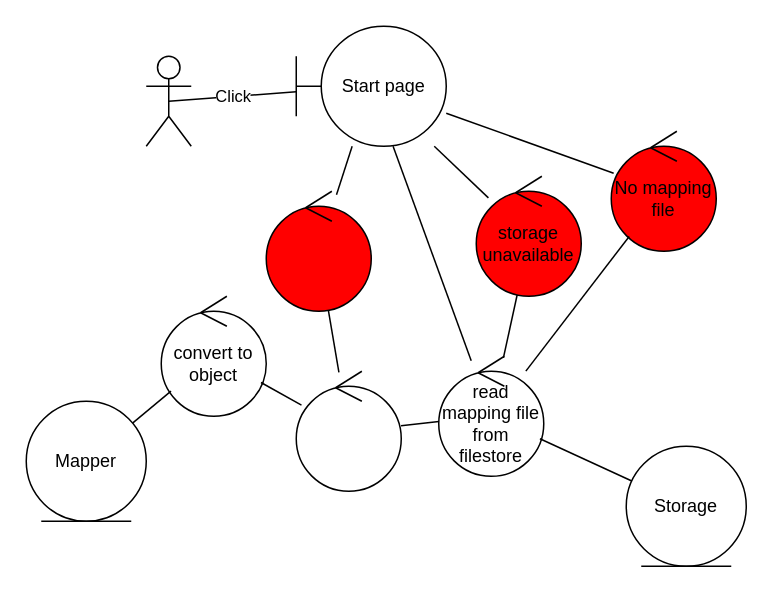
This 773x593 diagram has some shape labels left out. Here are the shapes that lost their labels. From the top down, the centre of each, then its label:
the point at 168,100: User
the point at 318,250: Invalid mapping file
the point at 348,430: validate mapping
